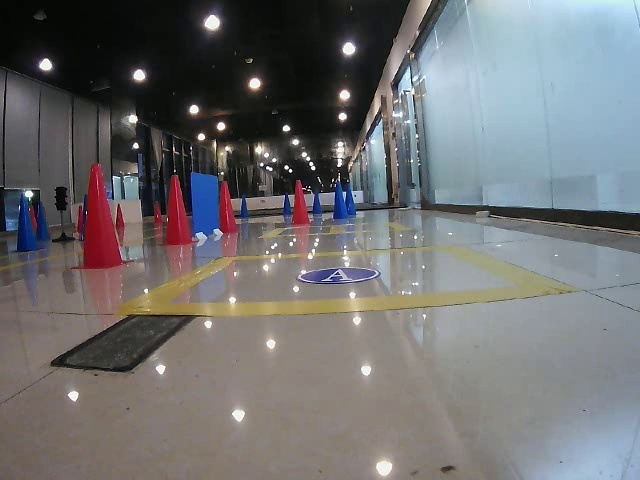A: (294, 263, 379, 284)
